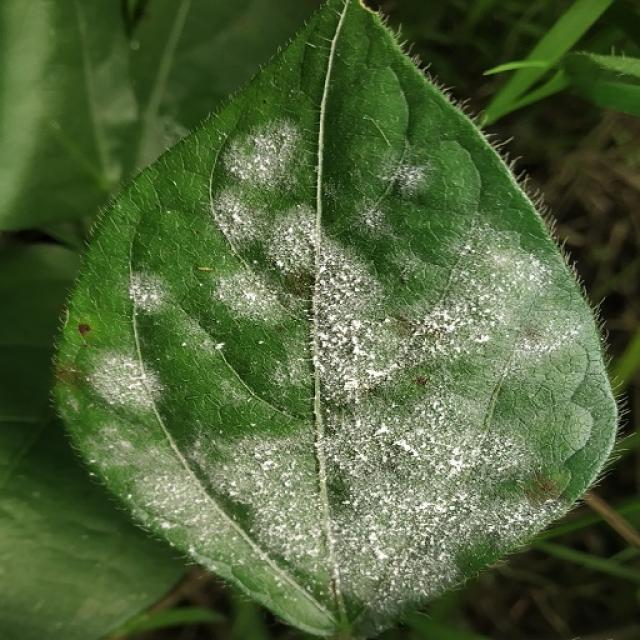Blackgram: (52, 0, 616, 635)
Powdery_Mildew: (344, 265, 570, 532), (162, 411, 323, 576), (70, 349, 209, 534), (450, 237, 575, 362), (388, 259, 495, 359), (80, 326, 168, 429), (235, 201, 323, 286), (319, 282, 390, 376), (222, 120, 306, 191), (212, 260, 290, 330), (356, 194, 398, 237), (385, 160, 430, 197), (129, 272, 164, 306)
